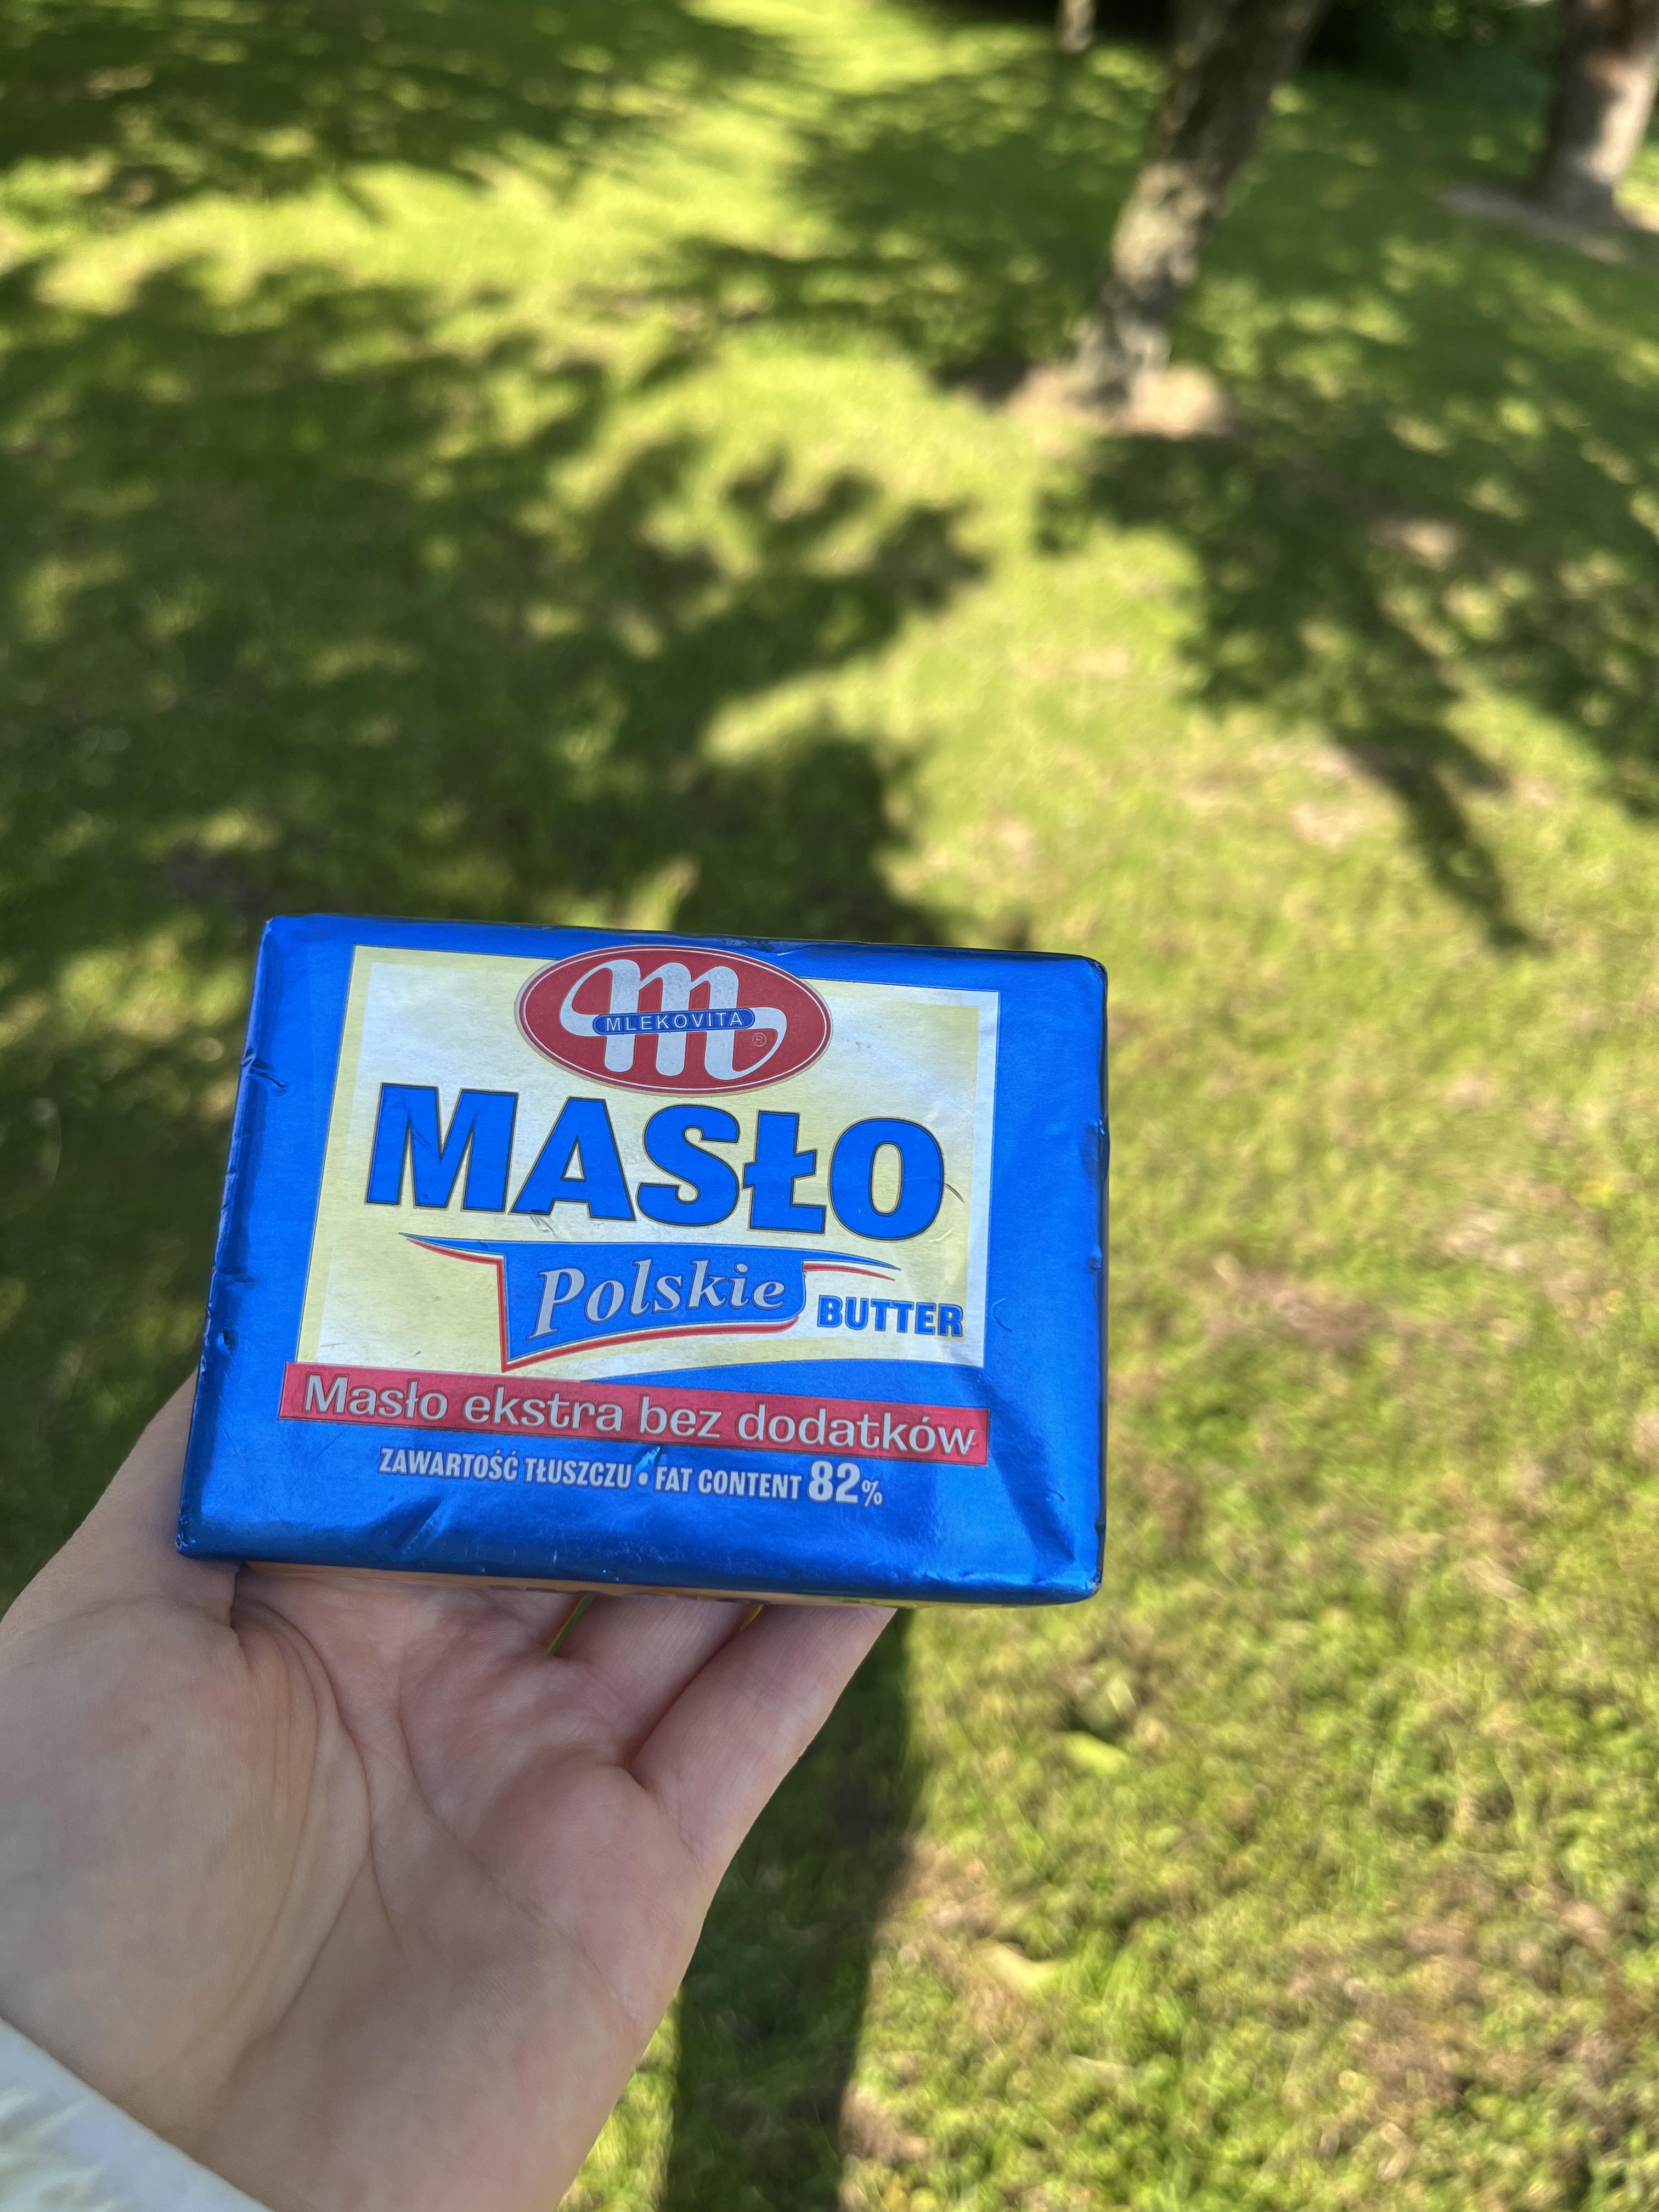Butter: (183, 913, 1138, 1602)
